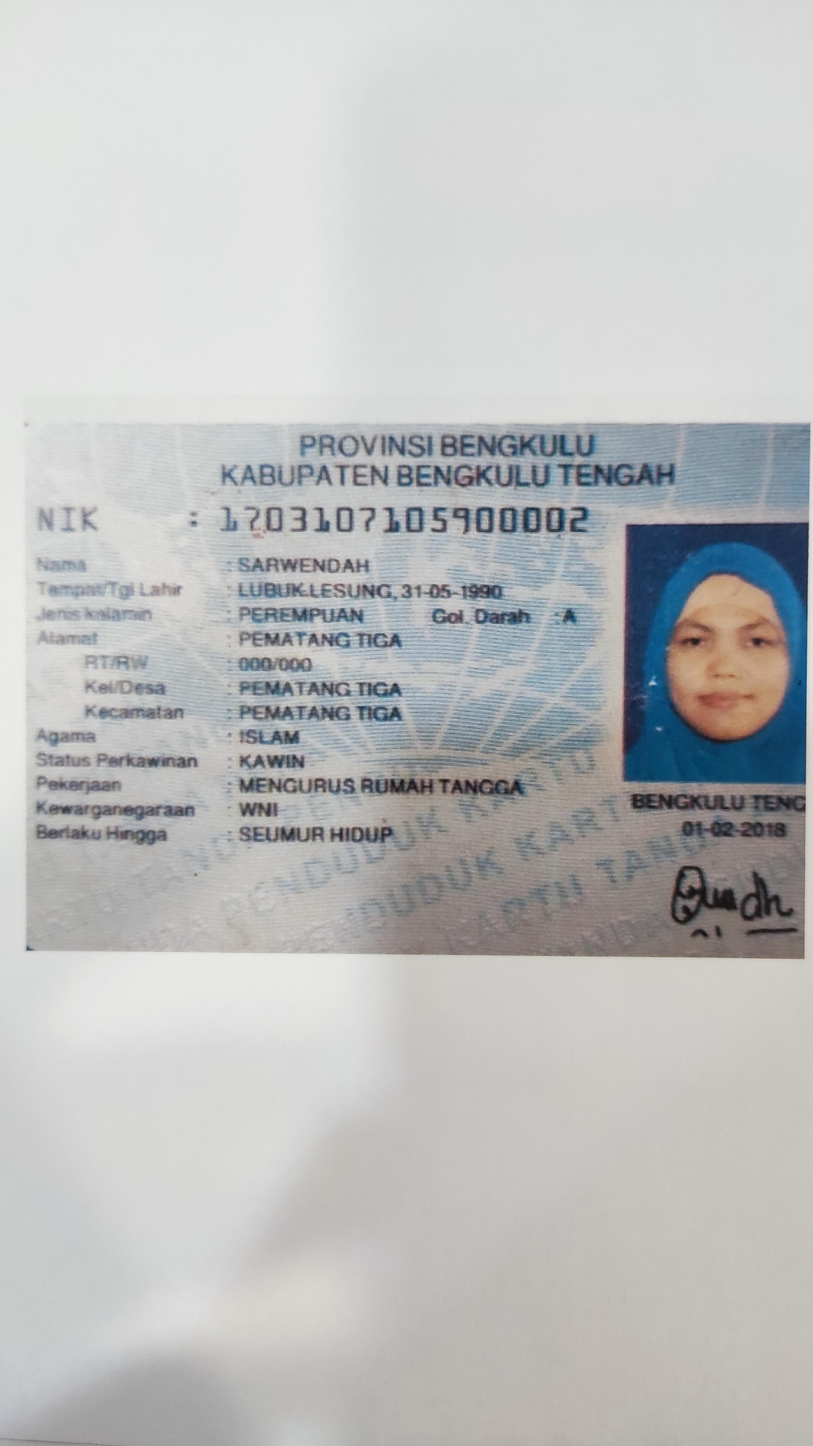ID-card: (13, 431, 804, 952)
